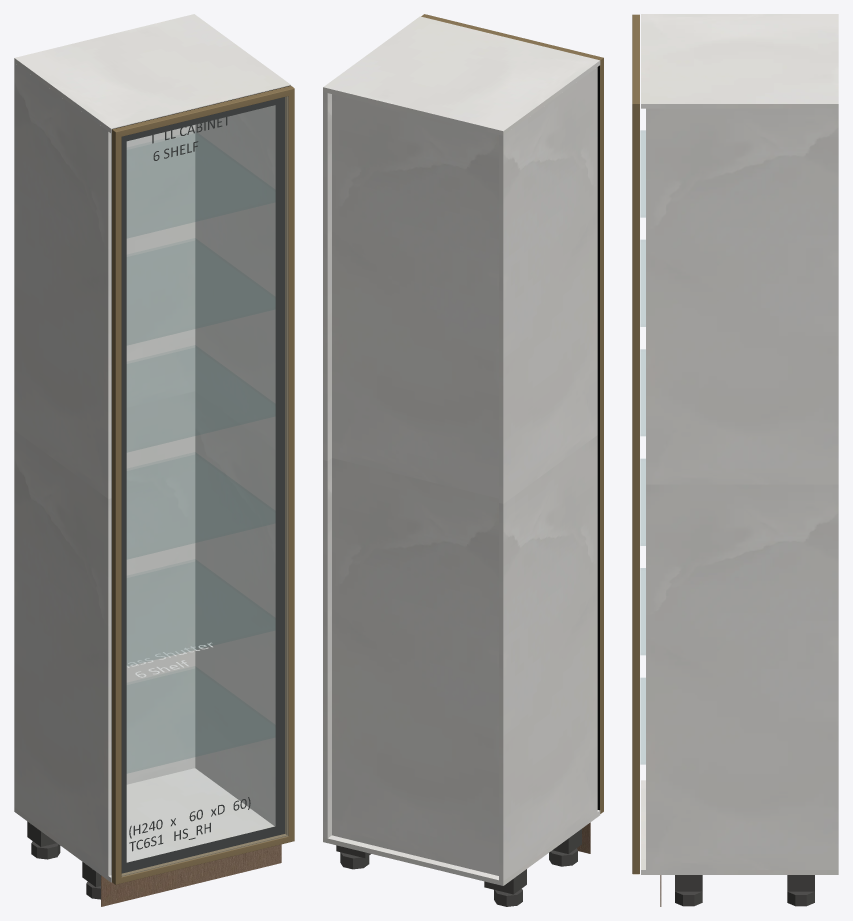
The model's file is TC-SH-STD-GL-6SG-RHS-XXX-600-2400-560-15.glb.
3 views of the same model, side by side, from view 1: azimuth 30°, elevation 25°; view 2: azimuth 150°, elevation 25°; view 3: azimuth 270°, elevation 25° (orthographic). The views are drawn at different scales.
Parts seen in each view (by area): view 1: Object_node_29, TP_node_0, TP_node_1, TP_node_2, Neon 22 Profile ALU PROF NEON 20 L21XH22.5MM 3MTR S2/405 SEC (×4), TP, Object_node_31, TP_node, Object_node_33; view 2: TP_node_2, TP_node_0, TP, TP_node_1, Neon 22 Profile ALU PROF NEON 20 L21XH22.5MM 3MTR S2/405 SEC (×2), Object_node_31, TP_node; view 3: TP_node_1, TP, Neon 22 Profile ALU PROF NEON 20 L21XH22.5MM 3MTR S2/405 SEC (×2), TP_node, Plate_node_1, Plate_node, Object_node_14, Object_node_17, Object_node_23.
Boxes of the visible parts, bbox=[...] form: Object_node_29: bbox=[122, 96, 288, 876]; TP_node_0: bbox=[14, 63, 111, 875]; TP_node_1: bbox=[195, 105, 275, 826]; TP_node_2: bbox=[126, 125, 195, 784]; Neon 22 Profile ALU PROF NEON 20 L21XH22.5MM 3MTR S2/405 SEC (×4): bbox=[112, 86, 294, 884]; TP: bbox=[14, 14, 290, 133]; Object_node_31: bbox=[111, 85, 290, 881]; TP_node: bbox=[14, 768, 274, 882]; Object_node_33: bbox=[101, 844, 281, 906]; TP_node_2: bbox=[332, 94, 498, 875]; TP_node_0: bbox=[499, 67, 597, 881]; TP: bbox=[323, 16, 600, 135]; TP_node_1: bbox=[323, 92, 331, 838]; Neon 22 Profile ALU PROF NEON 20 L21XH22.5MM 3MTR S2/405 SEC (×2): bbox=[421, 14, 603, 813]; Object_node_31: bbox=[597, 65, 599, 810]; TP_node: bbox=[323, 810, 600, 885]; TP_node_1: bbox=[646, 108, 838, 869]; TP: bbox=[641, 14, 838, 108]; Neon 22 Profile ALU PROF NEON 20 L21XH22.5MM 3MTR S2/405 SEC (×2): bbox=[632, 14, 639, 873]; TP_node: bbox=[641, 780, 838, 874]; Plate_node_1: bbox=[675, 875, 702, 891]; Plate_node: bbox=[787, 875, 814, 891]; Object_node_14: bbox=[641, 568, 645, 654]; Object_node_17: bbox=[641, 459, 645, 545]; Object_node_23: bbox=[641, 240, 645, 326].
Size of what is drawn, in the model's own units: 0.6 by 2.5 by 0.582.
9 materials, 2 textured.
